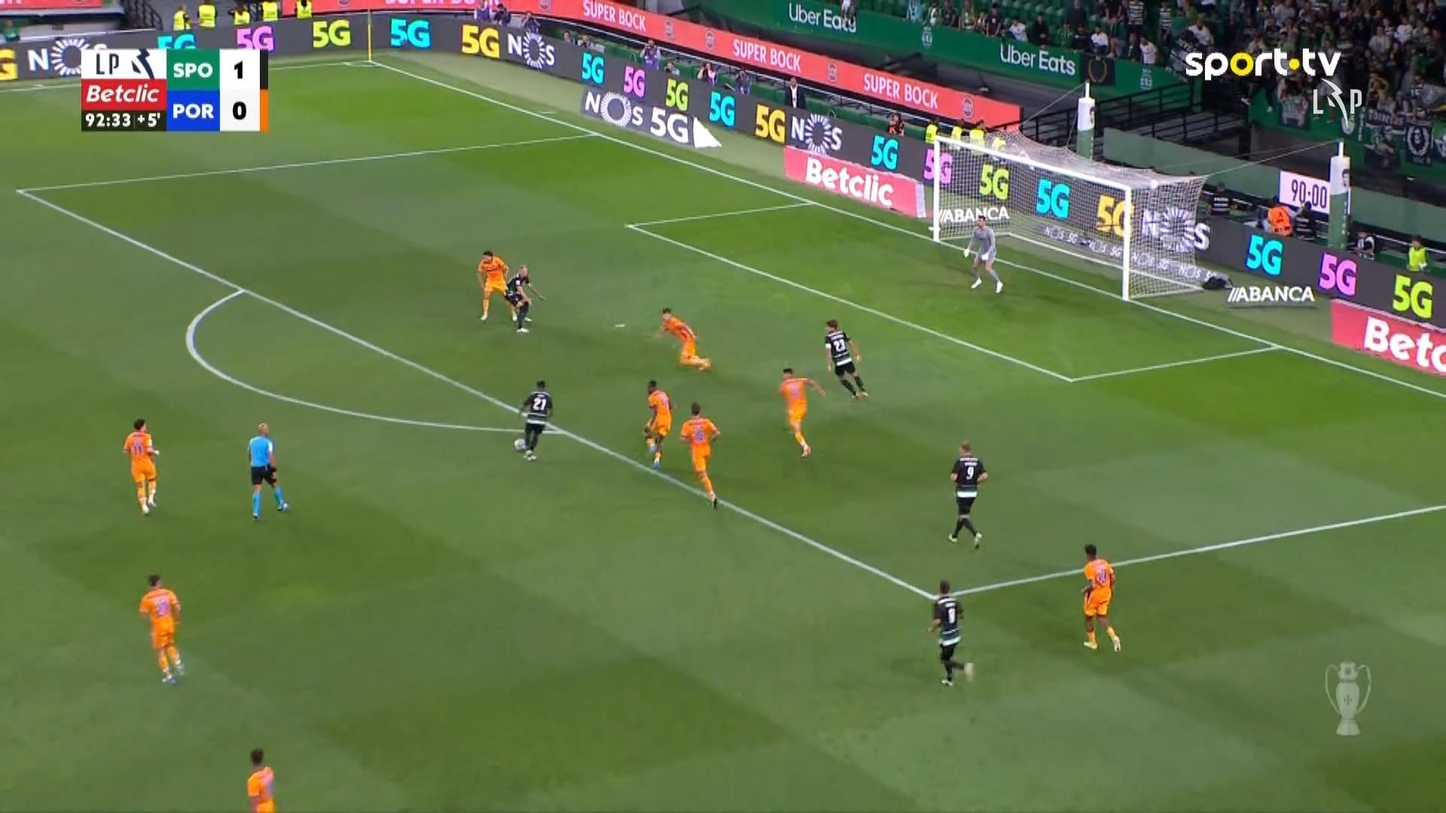ball: (514, 438, 526, 451)
goalkeeper: (962, 214, 1004, 294)
player: (138, 573, 185, 684), (926, 579, 974, 687), (1079, 543, 1121, 653), (679, 401, 721, 509), (947, 440, 988, 549), (778, 366, 825, 458), (645, 306, 711, 371), (823, 318, 869, 400), (123, 418, 160, 515), (514, 379, 553, 461), (476, 249, 517, 321), (504, 263, 545, 333), (642, 379, 673, 469), (246, 747, 276, 811)
referee: (246, 422, 289, 520)
